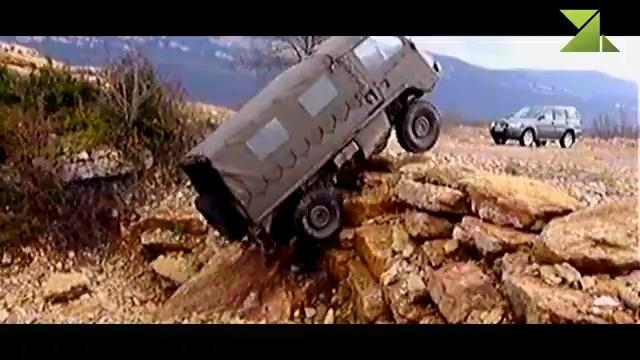MIL_HMMWV: (183, 35, 444, 247), (489, 102, 582, 149)
